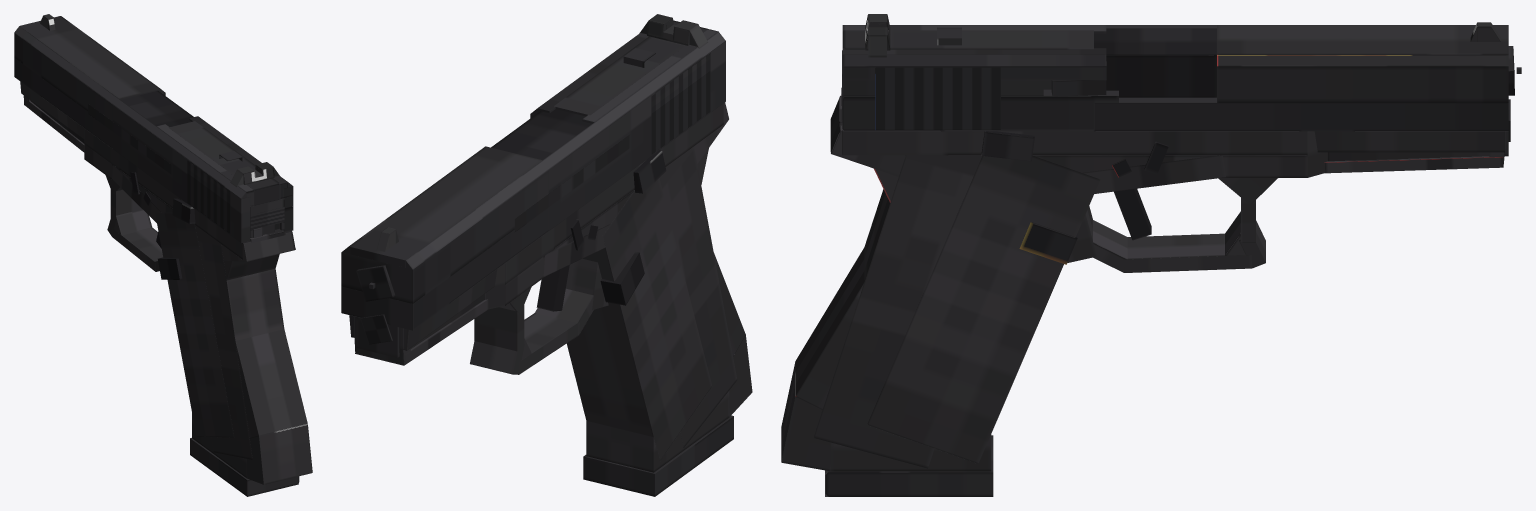
The model's file is glock17.fbx.
The picture shows the model from 3 angles, left to right: view 1: azimuth 30°, elevation 25°; view 2: azimuth 150°, elevation 25°; view 3: azimuth 270°, elevation 25°; orthographic projection. The views are drawn at different scales.
Visible parts, largest first — view 1: gun, slide, magazine; view 2: gun, slide, magazine; view 3: gun, slide, magazine.
Boxes of the visible parts, x1,y1,x2,y2 form: gun: (20,81,312,484); slide: (14,14,293,242); magazine: (190,438,299,496); gun: (349,102,752,472); slide: (341,14,725,357); magazine: (583,415,733,496); gun: (781,28,1514,471); slide: (842,14,1508,156); magazine: (825,435,993,496).
Size of the model in its own units: 25.56 by 125 by 184.
